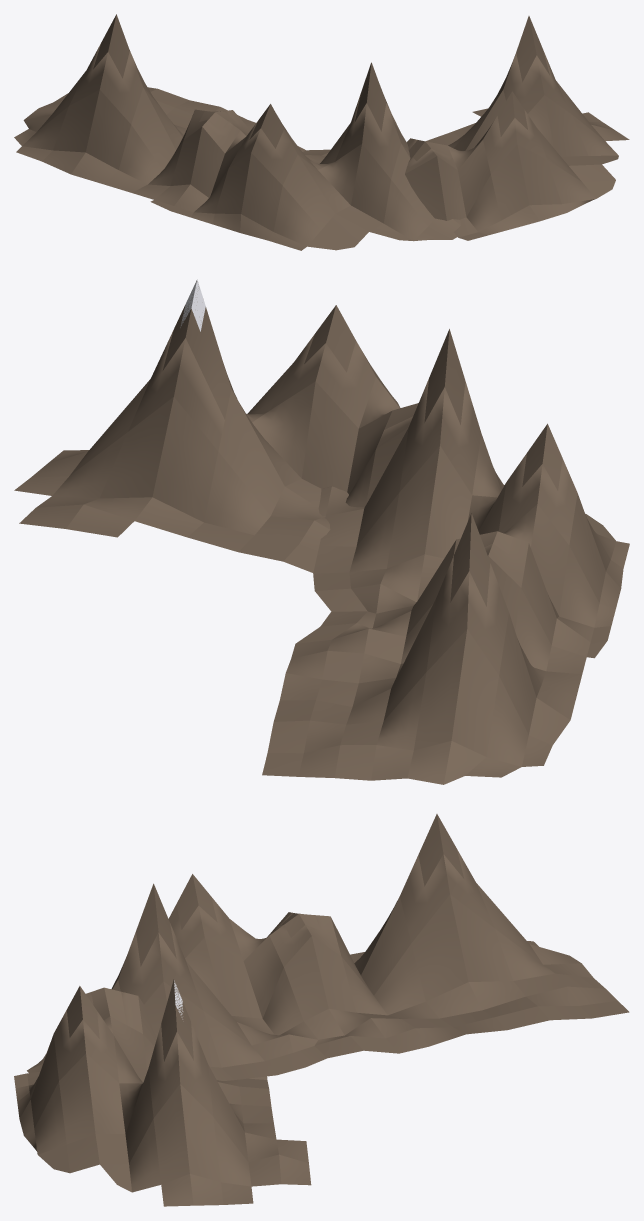
Rendered from Mountain.glb.
The picture shows the model from 3 angles, top to bottom: view 1: azimuth 30°, elevation 25°; view 2: azimuth 150°, elevation 25°; view 3: azimuth 270°, elevation 25°; orthographic projection. The views are drawn at different scales.
Parts seen in each view (by area): view 1: Mountains; view 2: Mountains; view 3: Mountains.
Part boxes in pixels (<box>): Mountains: <box>14,14,629,250</box>; Mountains: <box>14,281,629,784</box>; Mountains: <box>14,814,629,1206</box>.
Size of the model in its own units: 8.82 by 2.6 by 8.42.
